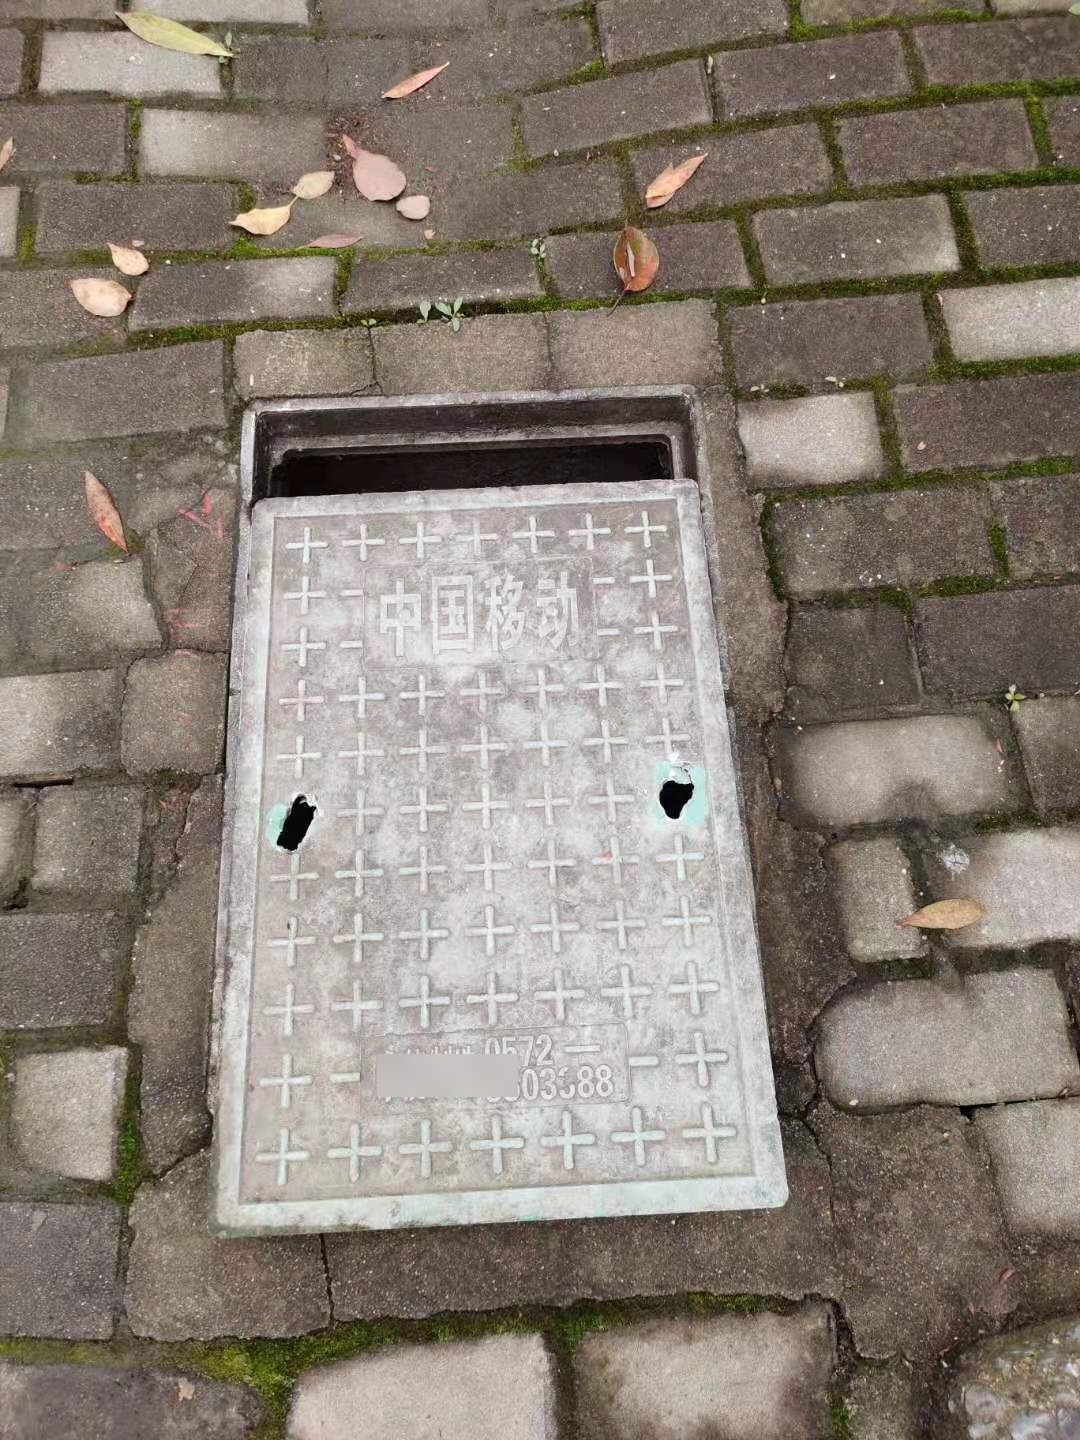uncovered: (209, 384, 788, 1238)
